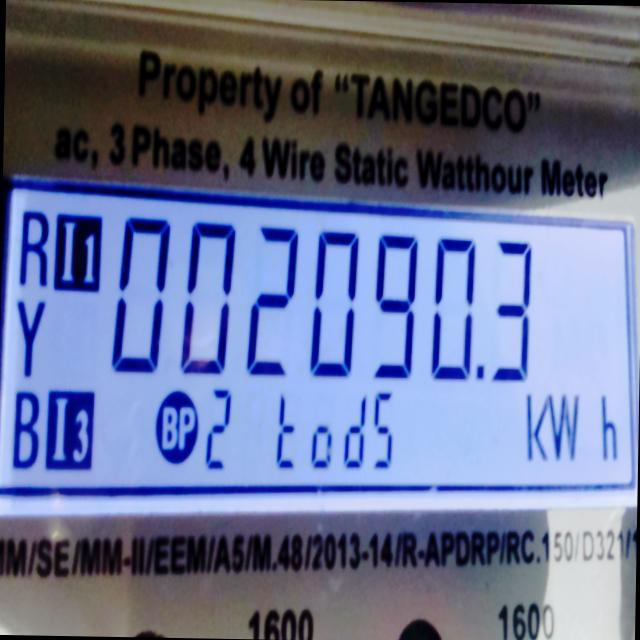LCD: (3, 173, 637, 510)
